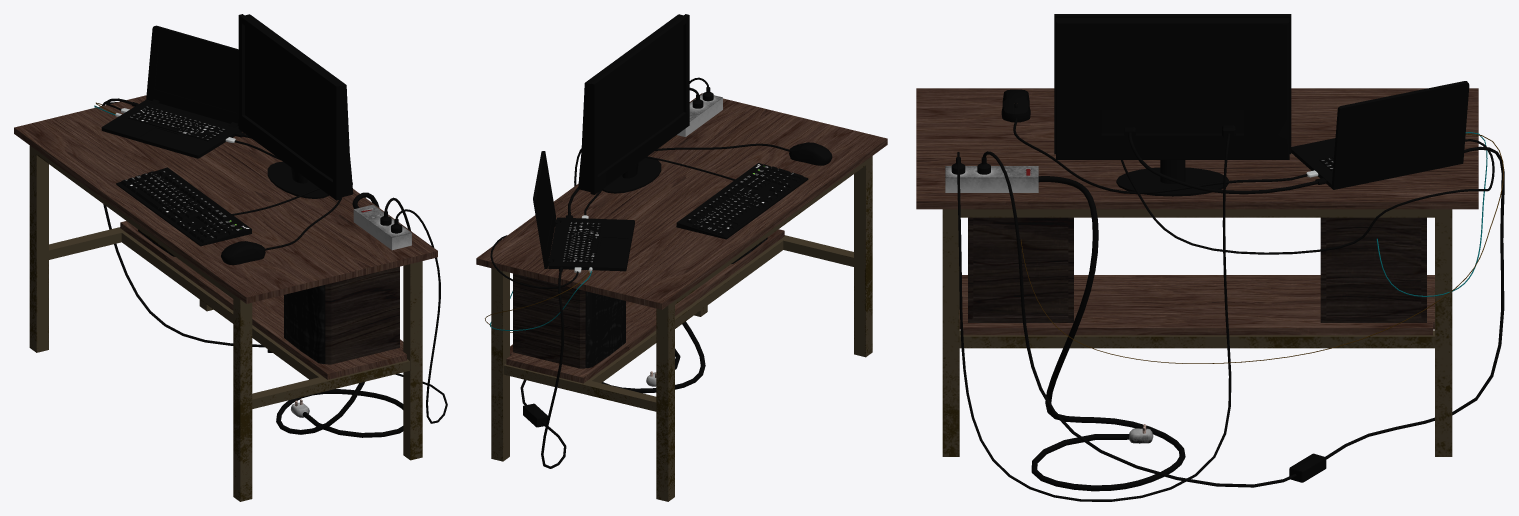
The model's file is desktop.glb.
The picture shows the model from 3 angles, left to right: view 1: azimuth 30°, elevation 25°; view 2: azimuth 150°, elevation 25°; view 3: azimuth 270°, elevation 25°; orthographic projection. The views are drawn at different scales.
Parts seen in each view (by area): view 1: p_tablaMadera, p_Monitor, p_Cuerpo, pCube286, p_Parlante, polySurface2, p_Estante, pCylinder13, p_Teclado, p_Enchufe, pCylinder1, pCylinder12 (+2 smaller); view 2: p_tablaMadera, p_Monitor, p_Cuerpo, p_Parlante, pCube286, polySurface2, p_Estante, p_Teclado, pCylinder1, pCylinder12, p_Enchufe, pCube326 (+2 smaller); view 3: p_Monitor, p_tablaMadera, p_Parlante, p_Estante, p_Cuerpo, pCube286, polySurface2, pCylinder13, pCylinder12, pCylinder8, pCylinder1, p_Enchufe (+6 smaller).
Part boxes in pixels (<box>): p_tablaMadera: <box>14,95,437,303</box>; p_Monitor: <box>238,14,353,200</box>; p_Cuerpo: <box>29,145,422,501</box>; pCube286: <box>101,25,241,158</box>; p_Parlante: <box>138,229,399,364</box>; polySurface2: <box>49,227,409,408</box>; p_Estante: <box>120,221,406,379</box>; pCylinder13: <box>276,192,403,437</box>; p_Teclado: <box>116,167,251,246</box>; p_Enchufe: <box>353,204,411,250</box>; pCylinder1: <box>267,161,329,198</box>; pCylinder12: <box>102,98,410,347</box>; p_tablaMadera: <box>476,93,887,309</box>; p_Monitor: <box>578,14,689,194</box>; p_Cuerpo: <box>491,156,872,501</box>; p_Parlante: <box>513,237,767,368</box>; pCube286: <box>533,151,634,271</box>; polySurface2: <box>503,235,853,411</box>; p_Estante: <box>506,229,784,383</box>; p_Teclado: <box>676,163,808,239</box>; pCylinder1: <box>602,158,661,193</box>; pCylinder12: <box>520,87,698,468</box>; p_Enchufe: <box>677,93,722,136</box>; pCube326: <box>789,142,832,165</box>; p_Monitor: <box>1054,14,1291,159</box>; p_tablaMadera: <box>916,88,1478,209</box>; p_Parlante: <box>968,217,1426,322</box>; p_Estante: <box>959,275,1434,335</box>; p_Cuerpo: <box>942,209,1452,456</box>; pCube286: <box>1291,81,1469,189</box>; polySurface2: <box>959,330,1434,348</box>; pCylinder13: <box>1031,176,1185,491</box>; pCylinder12: <box>982,146,1504,487</box>; pCylinder8: <box>957,133,1231,501</box>; pCylinder1: <box>1116,160,1228,196</box>; p_Enchufe: <box>945,166,1038,192</box>.
Size of the model in its own units: 87.45 by 111 by 139.
Materials: 4 (4 with a texture image).
